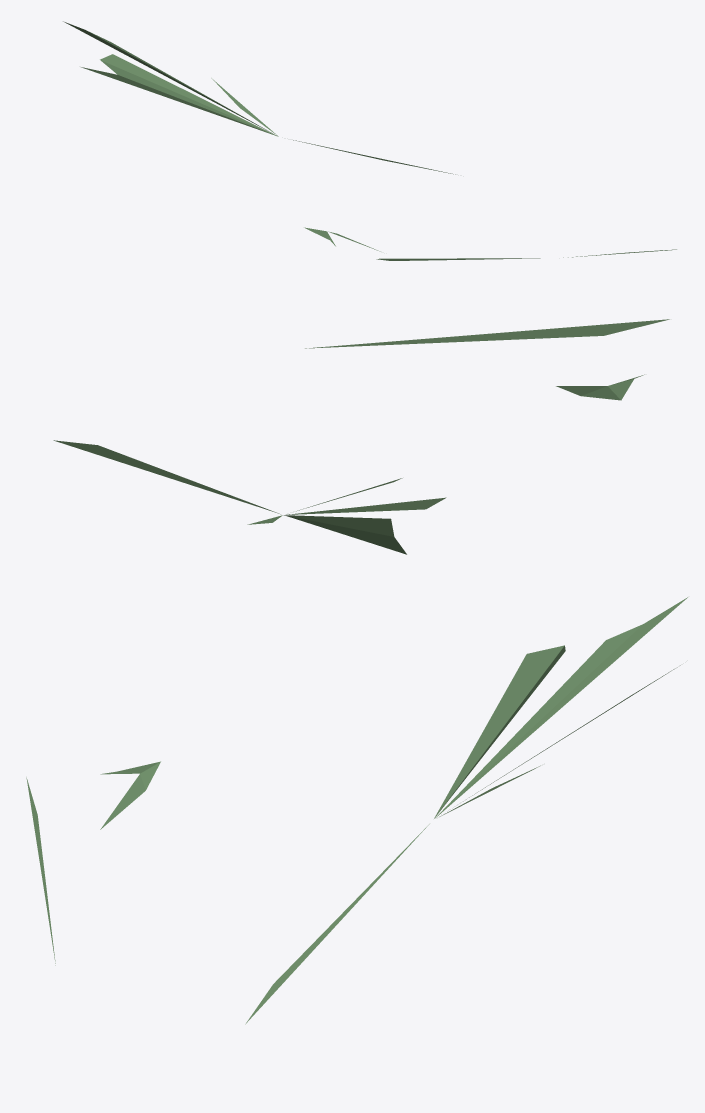
The model's file is c_1670_17817_forest.glb.
The picture shows the model from 3 angles, top to bottom: view 1: azimuth 30°, elevation 25°; view 2: azimuth 150°, elevation 25°; view 3: azimuth 270°, elevation 25°; orthographic projection. The views are drawn at different scales.
Parts seen in each view (by area): view 1: geometry_0; view 2: geometry_0; view 3: geometry_0.
Boxes of the visible parts, x1,y1,x2,y2 form: geometry_0: [63, 21, 676, 260]; geometry_0: [53, 319, 669, 554]; geometry_0: [26, 597, 687, 1024].
Bounding box in the file's own units: 284 × 104 × 288.
